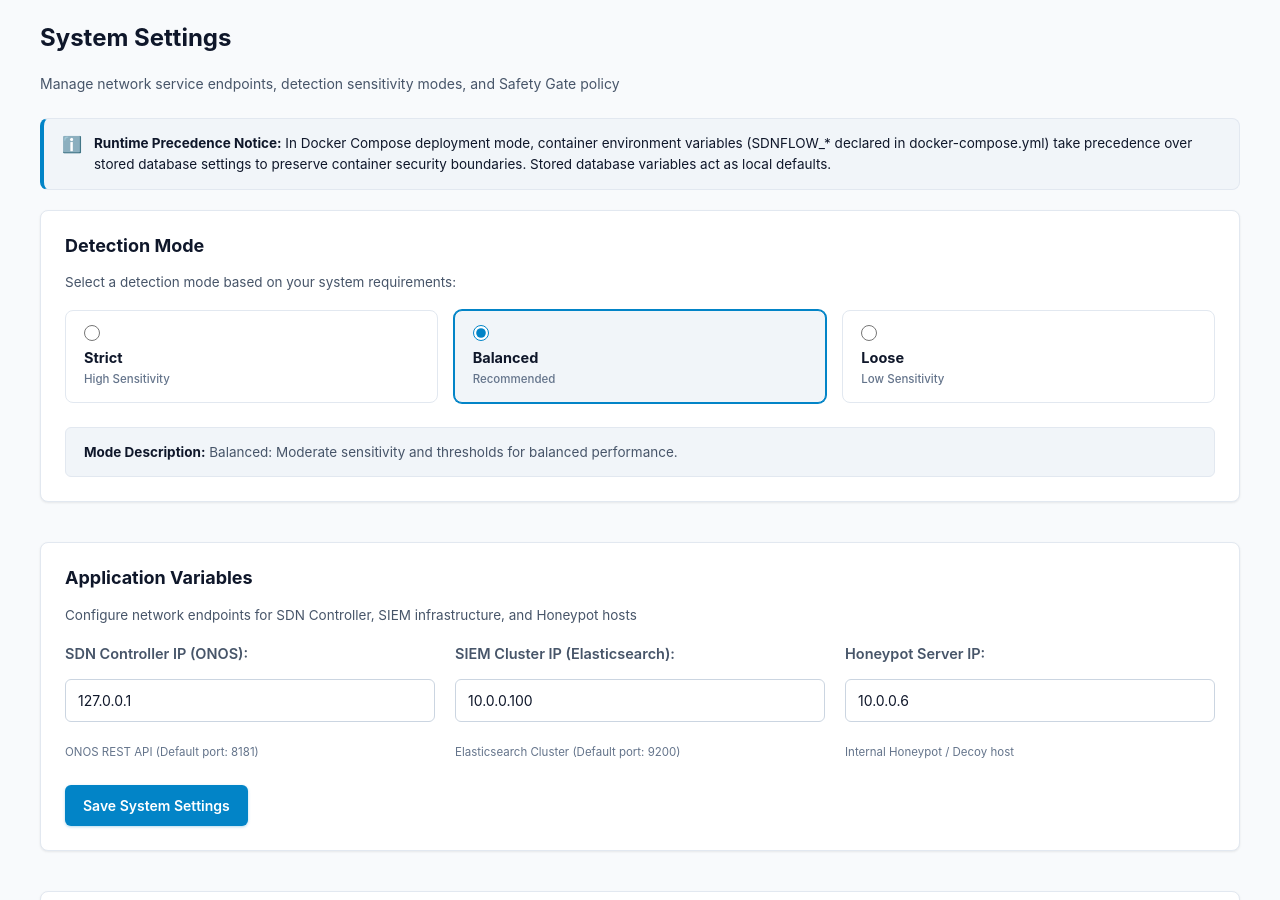
SystemSettings Enterprise Layout & Functional Verification › validates IP address inputs before saving
Type "invalid-ip-string" into the field showing "127.0.0.1".
click(250, 701); type("invalid-ip-string")  # box [65,679,435,722]
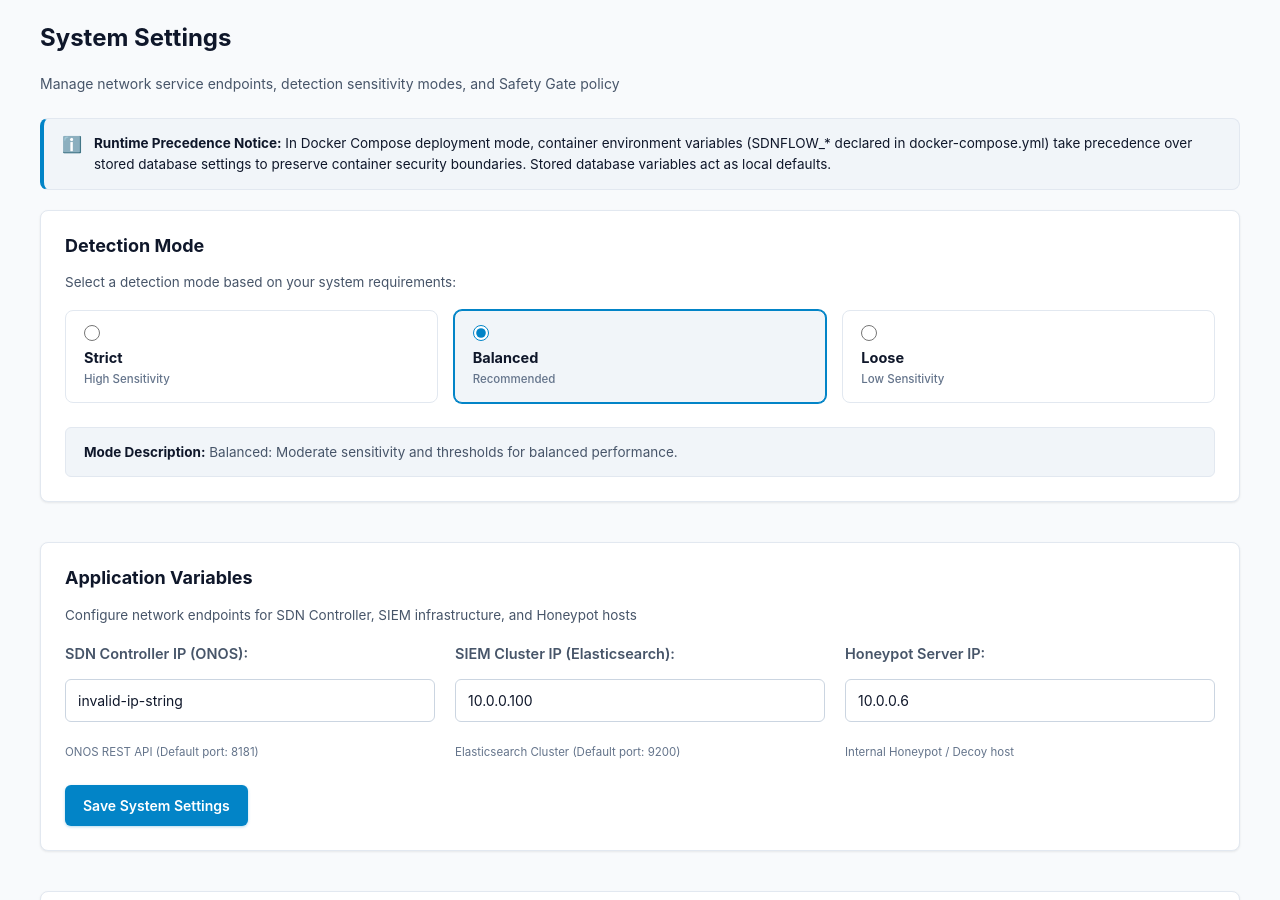
Click the button "Save System Settings".
click(156, 806)  # box [65,785,248,826]
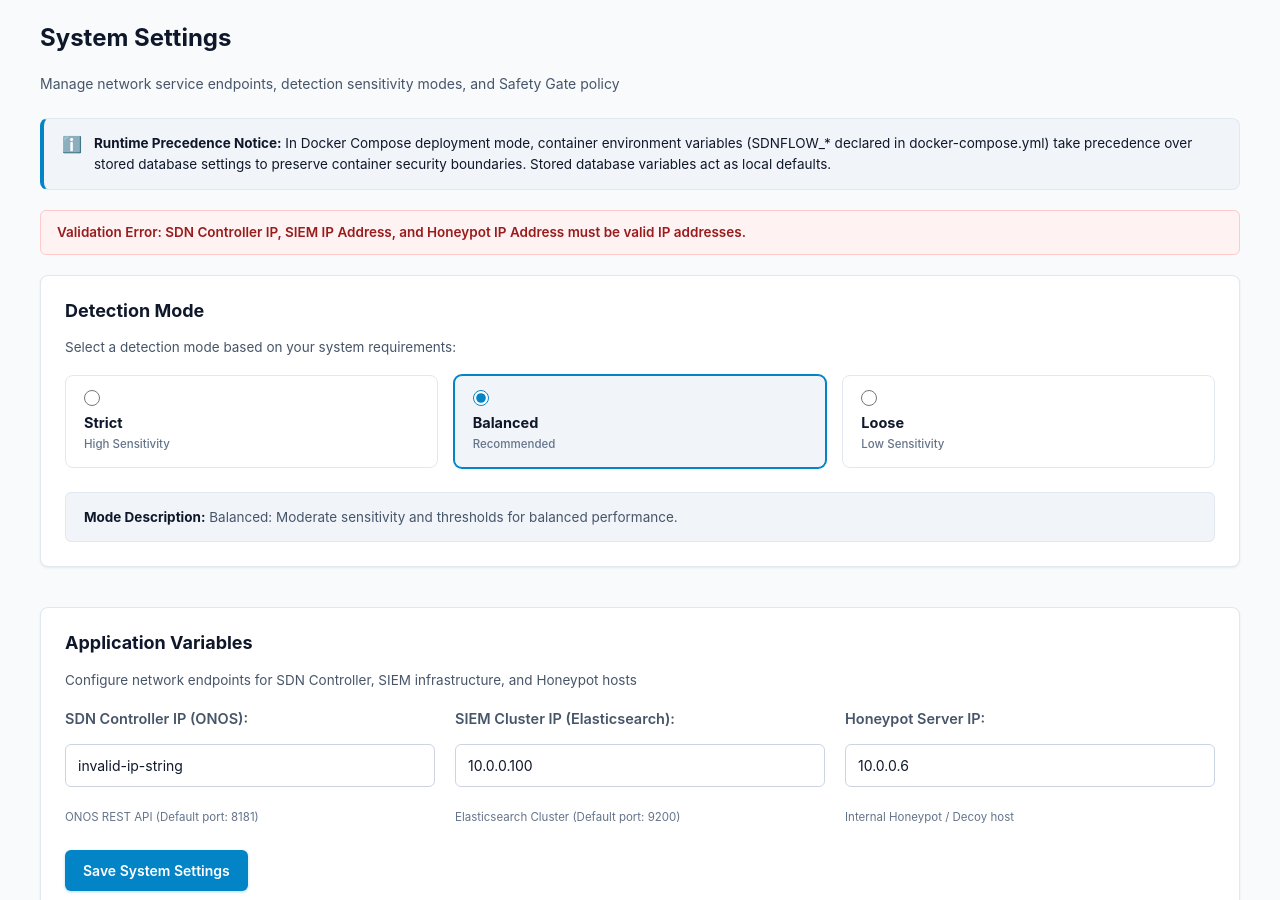
Result: the message shows "Validation Error" at [57,224,746,240]
